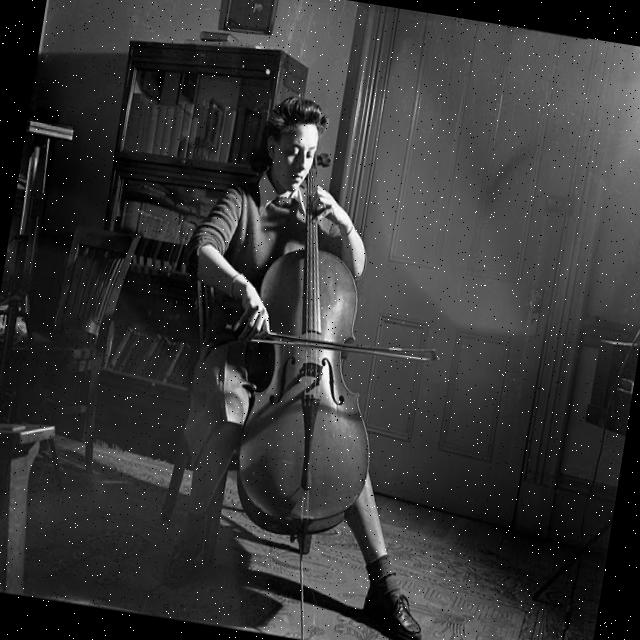cello: (220, 145, 418, 550)
